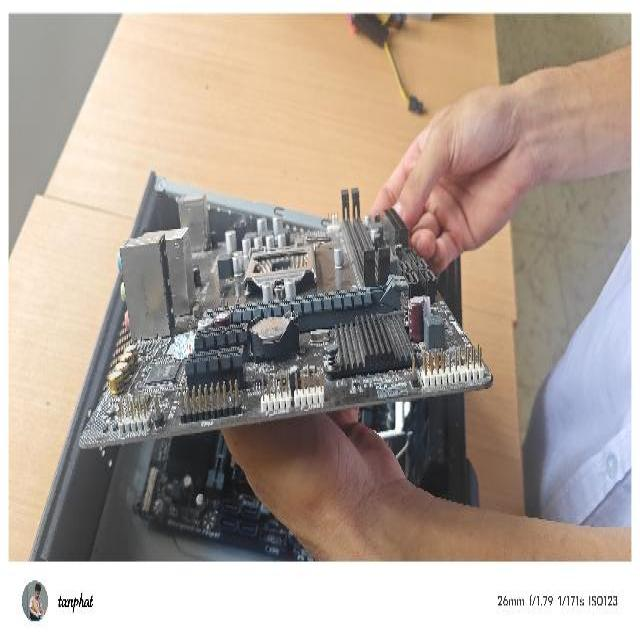Mainboard: (76, 185, 496, 450)
